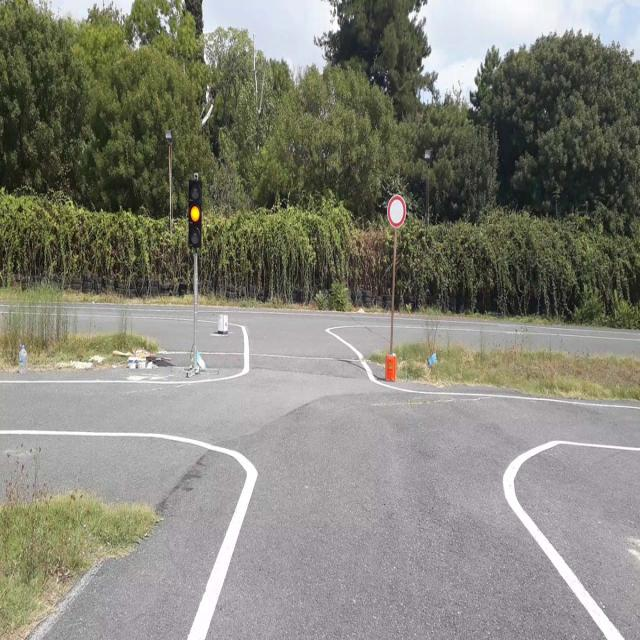sari: (188, 180, 202, 247)
